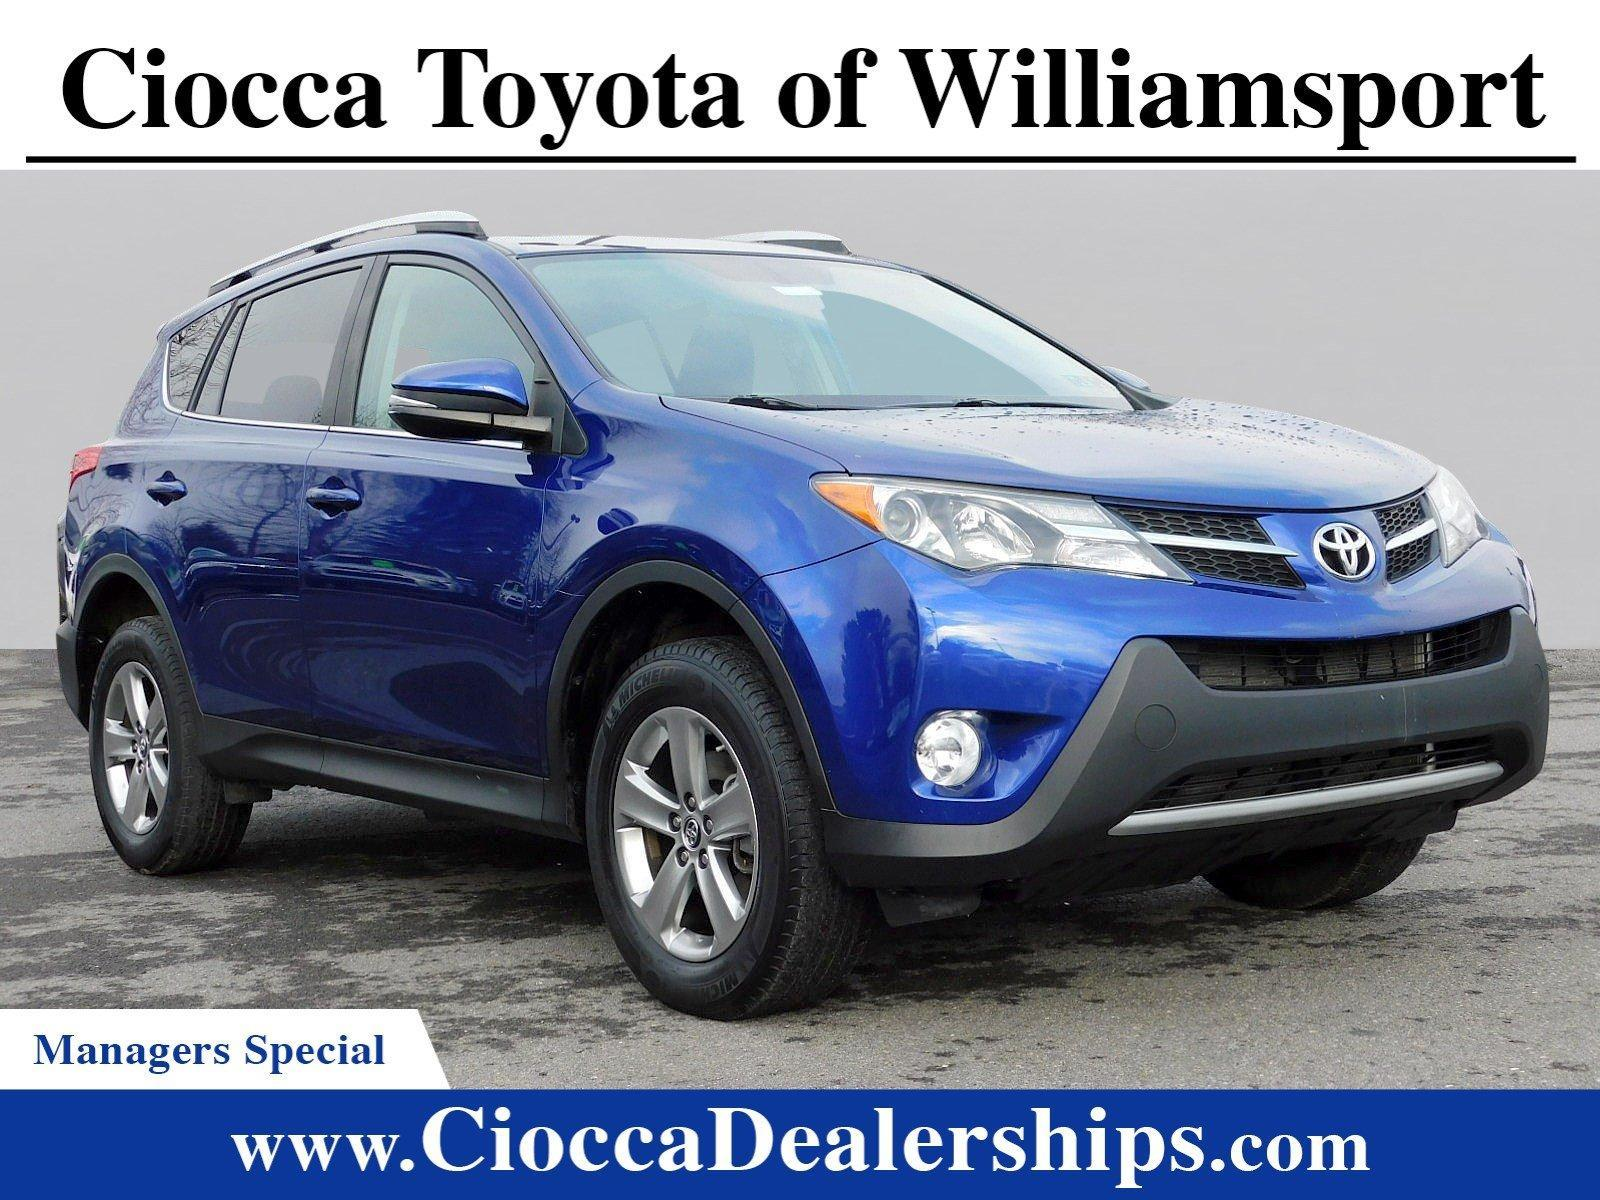Toyota RAV-4: (54, 234, 1552, 1024)
